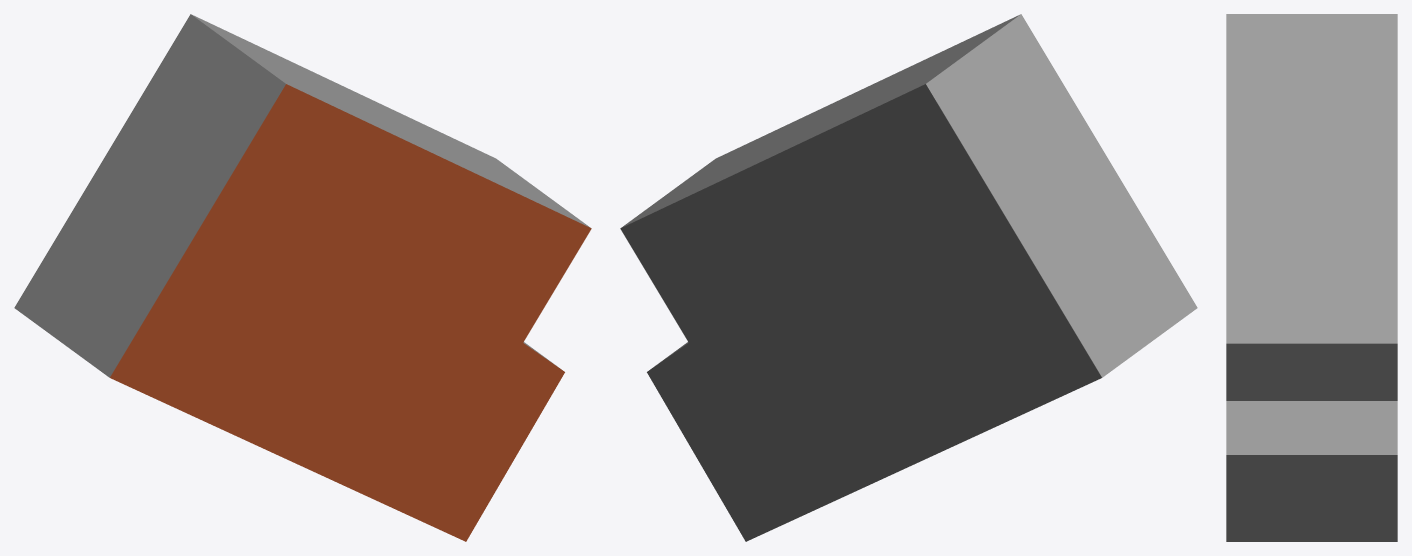
Rendered from construction_6297_assumed_A_Casa_h6m.obj.
The picture shows the model from 3 angles, left to right: view 1: azimuth 30°, elevation 25°; view 2: azimuth 150°, elevation 25°; view 3: azimuth 270°, elevation 25°; orthographic projection. The views are drawn at different scales.
Parts seen in each view (by area): view 1: construction_6297_assumed_A_Casa; view 2: construction_6297_assumed_A_Casa; view 3: construction_6297_assumed_A_Casa.
Boxes of the visible parts, left/top/right/bottom form: construction_6297_assumed_A_Casa: left=14, top=14, right=591, bottom=541; construction_6297_assumed_A_Casa: left=620, top=14, right=1197, bottom=541; construction_6297_assumed_A_Casa: left=1226, top=14, right=1397, bottom=541.
Bounding box in the file's own units: 17.48 × 17.39 × 6.
